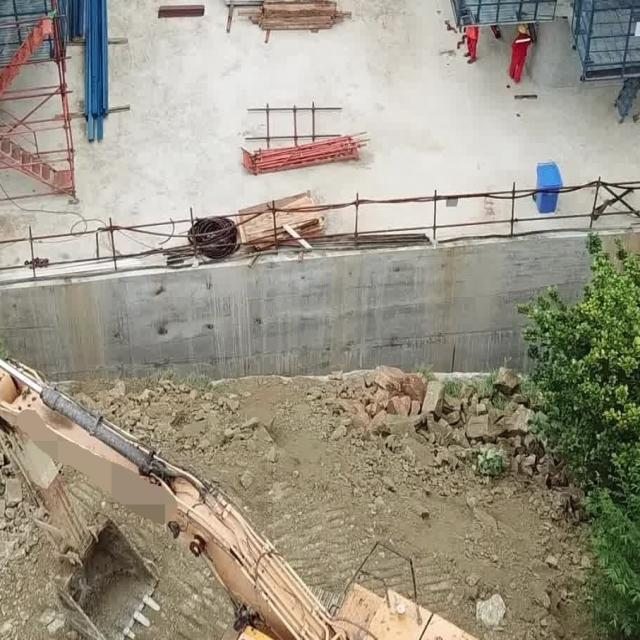excavator: (0, 357, 478, 640)
